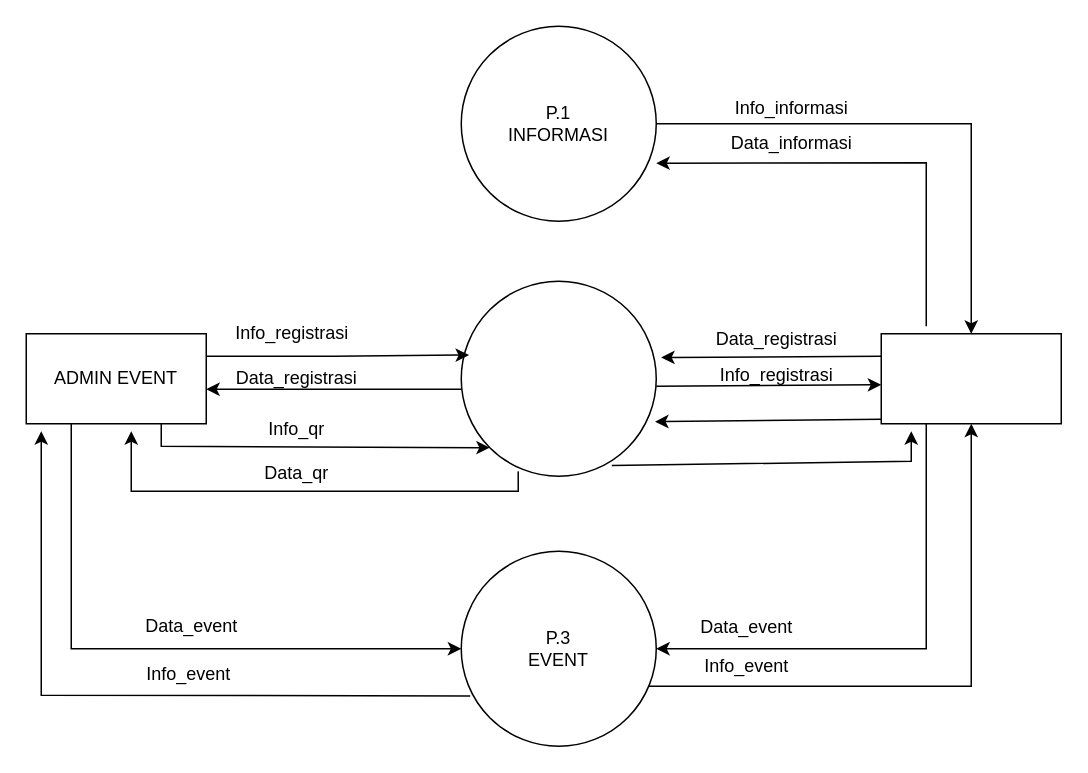
Some shapes in this 1088 by 773 pixel diagram are drawn without their labels. Here are the shapes that lost their labels. From the top down, the box of each, then its label:
(460, 280, 656, 476): P.2 REGISTRASI
(880, 332, 1061, 424): PESERTA
